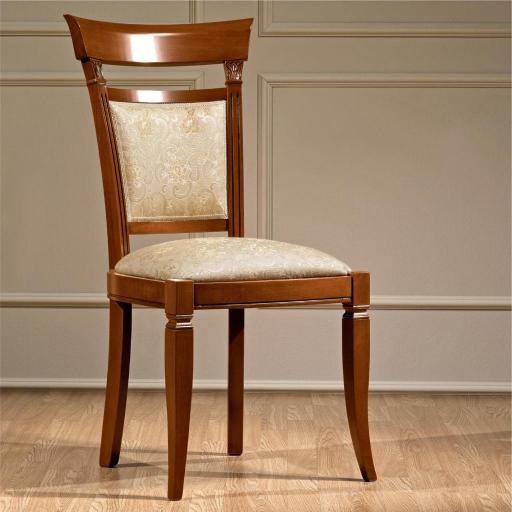chair: (63, 14, 377, 500)
wall: (0, 0, 512, 394)
